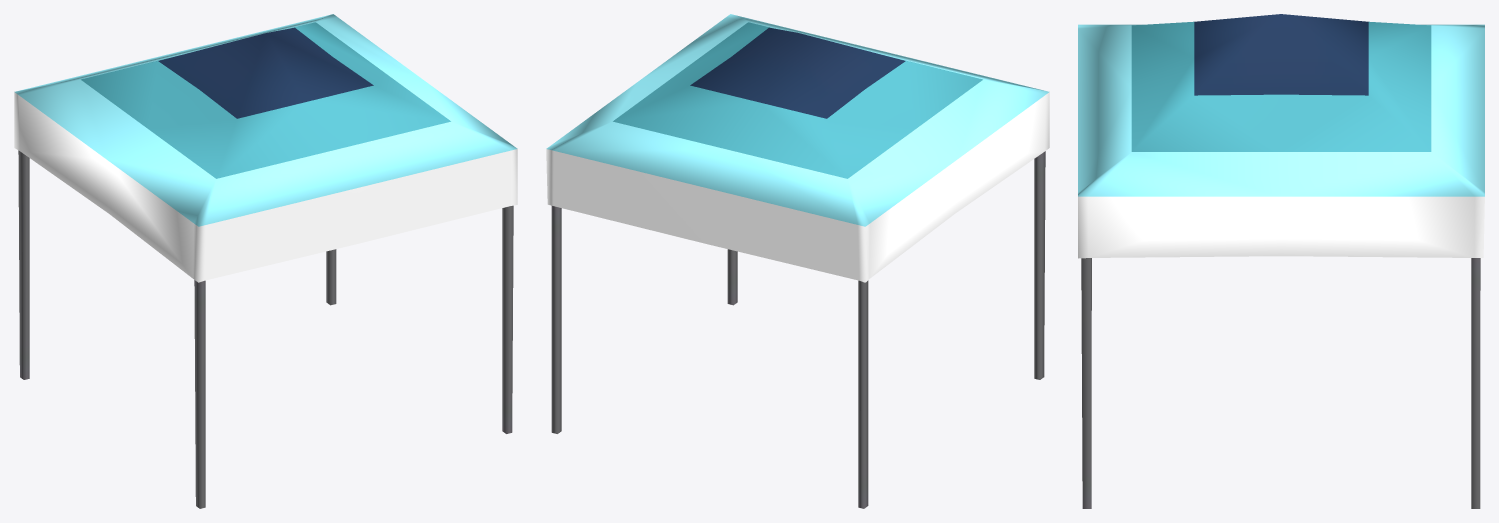
The model's file is BusinessCanopy.glb.
3 renders of one model, left to right at view 1: azimuth 30°, elevation 25°; view 2: azimuth 150°, elevation 25°; view 3: azimuth 270°, elevation 25°, orthographic. The views are drawn at different scales.
Visible parts, largest first — view 1: BusinessCanopy; view 2: BusinessCanopy; view 3: BusinessCanopy.
Boxes of the visible parts, x1,y1,x2,y2 form: BusinessCanopy: [14, 14, 517, 508]; BusinessCanopy: [546, 14, 1049, 508]; BusinessCanopy: [1078, 14, 1484, 508].
Bounding box in the file's own units: 4.27 × 4.76 × 4.27.
1 material, 1 textured.
